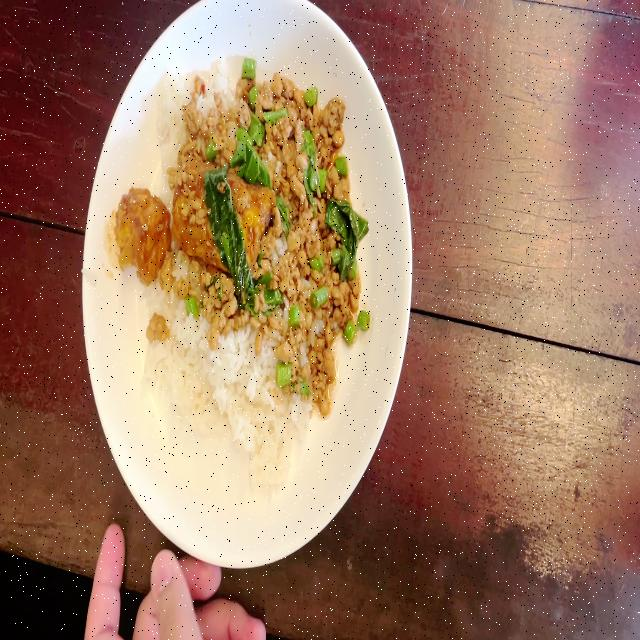fried_tofo: (175, 158, 266, 270), (111, 178, 172, 284)
minced_pork: (267, 163, 366, 414), (189, 62, 353, 168), (170, 264, 274, 327)
rice: (146, 324, 297, 489), (156, 65, 180, 168), (208, 50, 235, 109)
stir_fried_basil: (114, 65, 370, 489)
